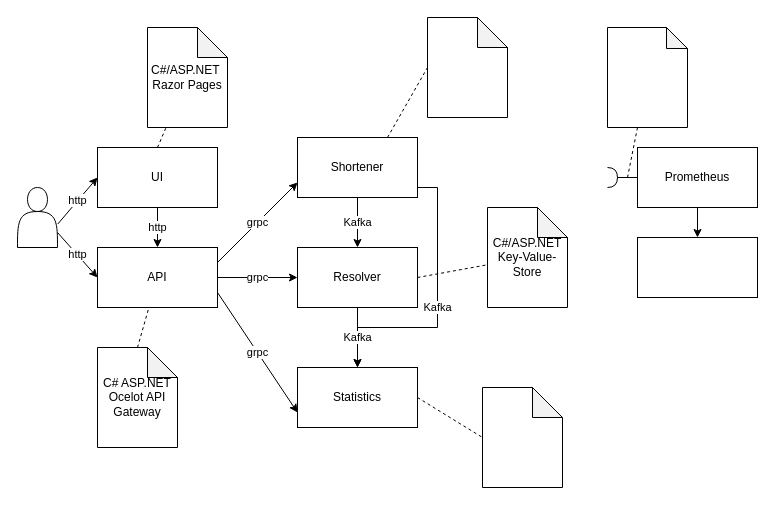
Image size: 775x505. Some labels were removed from this diagram. The shapes that lost their labels are listed below. From the top down, each one's centre as x and y in pixels, then its label:
At point (467, 67): "C#/ASP.NET DocumentDb".
At point (647, 77): "Scrapes Prometheus endpoints of Services".
At point (697, 267): "Grafana".
At point (522, 437): "C#/ASP.NET Timeseries Database".
